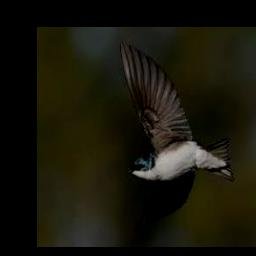Swallow: (118, 41, 233, 229)
